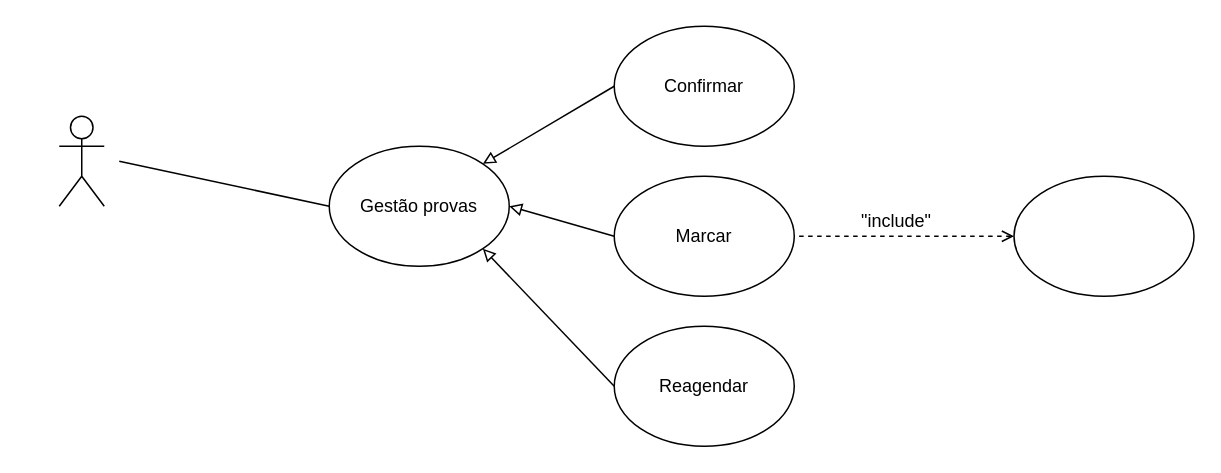
This 1221x473 diagram has some shape labels left out. Here are the shapes that lost their labels. From the top down, the centre of each, then its label:
At point (81, 160): "Administrador".
At point (1103, 235): "Enviar email com informação da(s) prova(s)".
